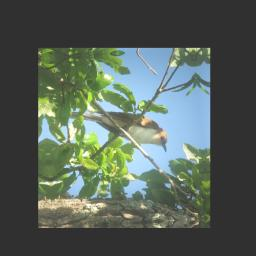Cuckoo: (65, 103, 170, 160)
